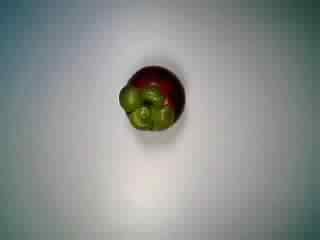mangosteen: (116, 61, 190, 139)
